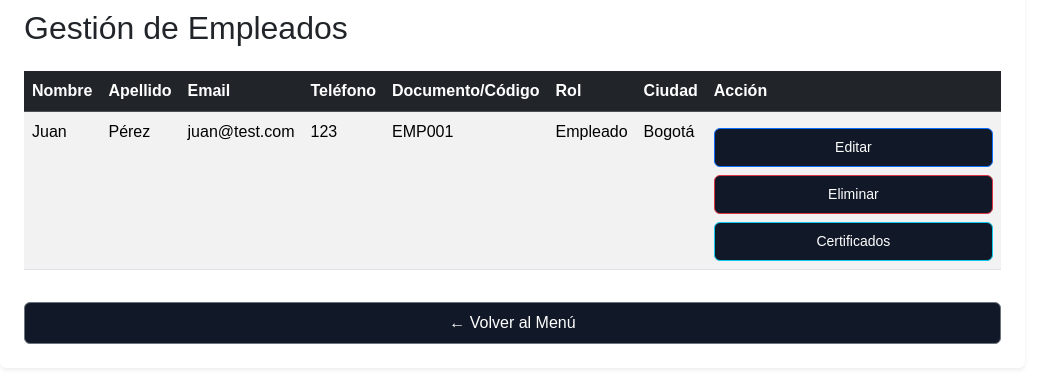
Test: elimina empleado correctamente
Click the button "Eliminar": (853, 195) [714,175,993,214]
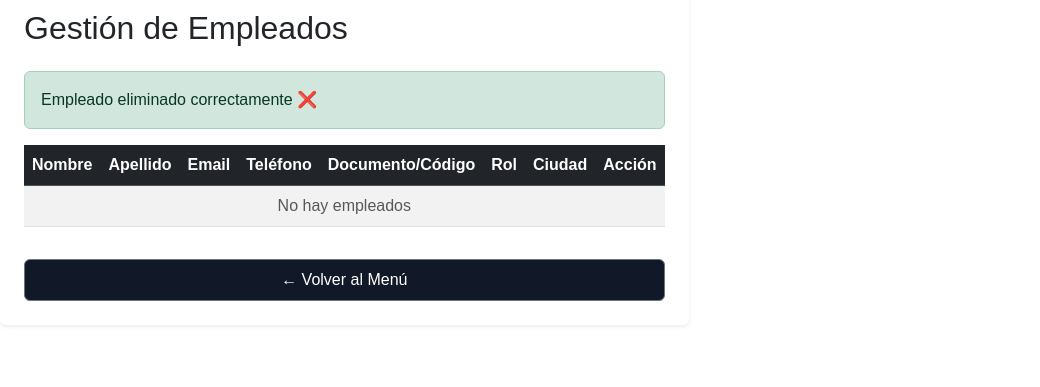
expect the text "Empleado eliminado correctamente ❌" is shown: met, box [24,71,665,129]
expect the text "Juan" is gone: met
